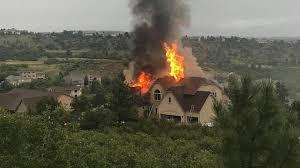fire: (162, 42, 188, 79), (133, 74, 153, 87)
smoke: (130, 2, 161, 72), (163, 2, 189, 40)
